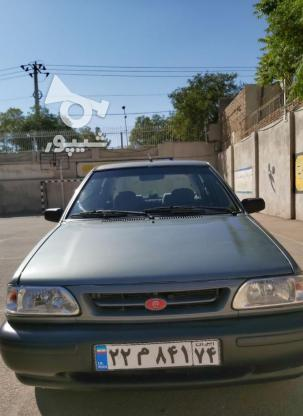car: (94, 335, 222, 372)
